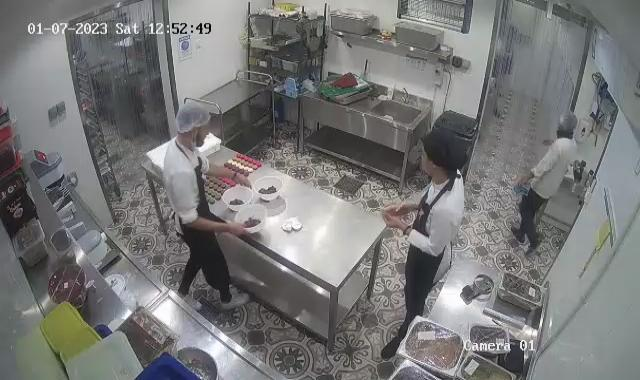hairnet: (175, 102, 212, 136), (556, 110, 580, 139)
no_hairnet: (419, 129, 468, 172)
